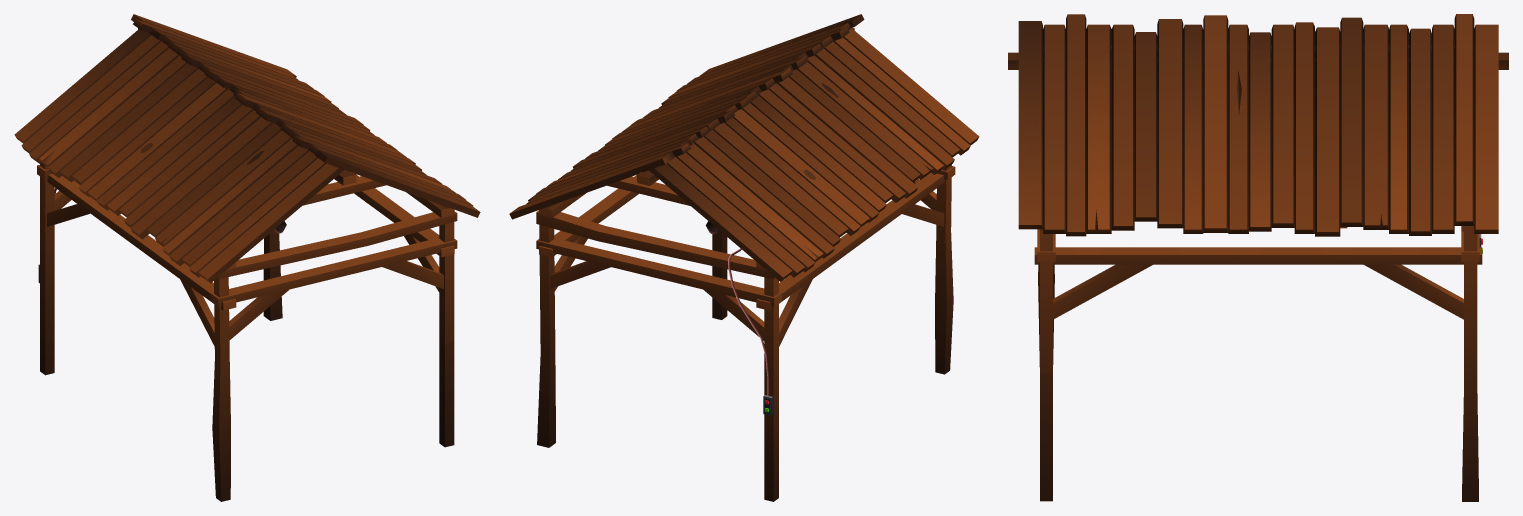
File: Shed_1A.fbx
The picture shows the model from 3 angles, left to right: view 1: azimuth 30°, elevation 25°; view 2: azimuth 150°, elevation 25°; view 3: azimuth 270°, elevation 25°; orthographic projection. The views are drawn at different scales.
Visible parts, largest first — view 1: Shed_1A; view 2: Shed_1A; view 3: Shed_1A.
Boxes of the visible parts, x1,y1,x2,y2 form: Shed_1A: (14,14,480,501); Shed_1A: (509,14,979,501); Shed_1A: (1008,14,1508,501).
Bounding box in the file's own units: 747 × 840 × 945.
